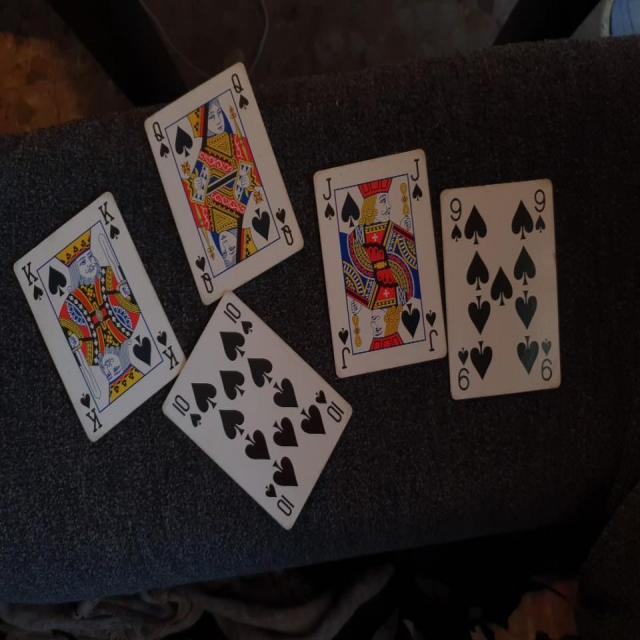10 Spades: (153, 290, 357, 540)
9 Spades: (438, 170, 572, 397)
J Spades: (306, 137, 448, 384)
K Spades: (17, 190, 187, 452)
Q Spades: (138, 49, 306, 310)
